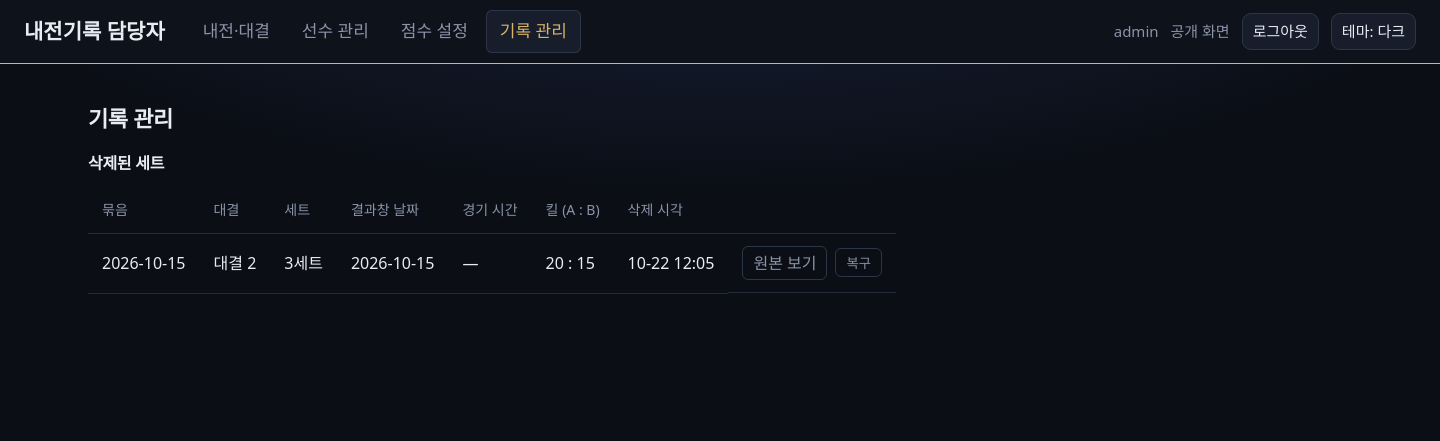
it: RecordManagePage › 복구가 409로 거절되면 한국어 문구와 막는 세트 링크를 보여 준다
Click the button "복구" at (859, 263), box x1=836 y1=248 x2=882 y2=278
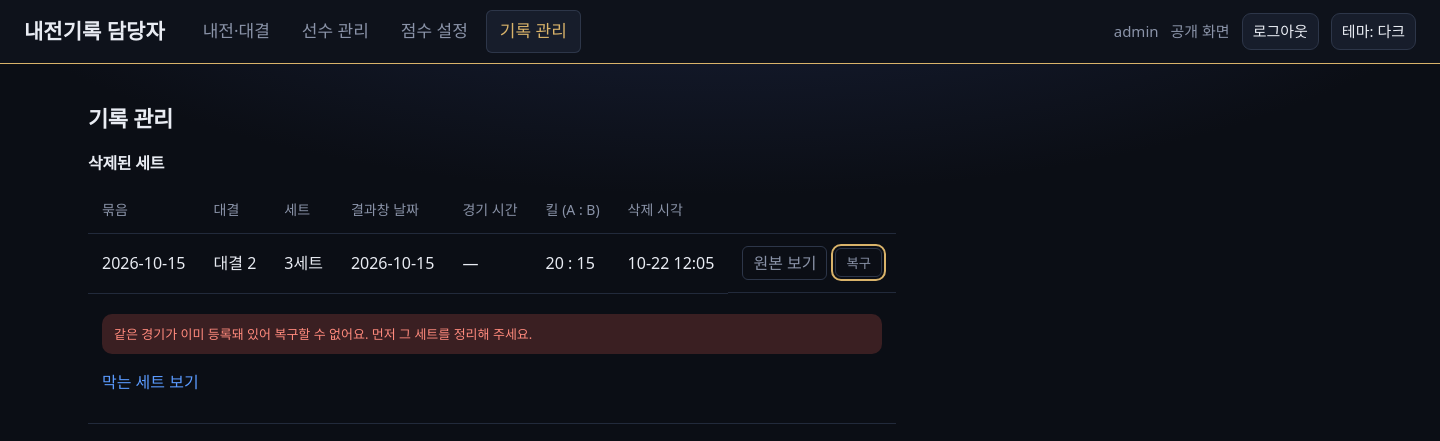
Expected: the text "같은 경기가 이미 등록돼 있어 복구할 수 없어요. 먼저 그 세트를 정리해 주세요." is shown, x1=114 y1=325 x2=532 y2=343
